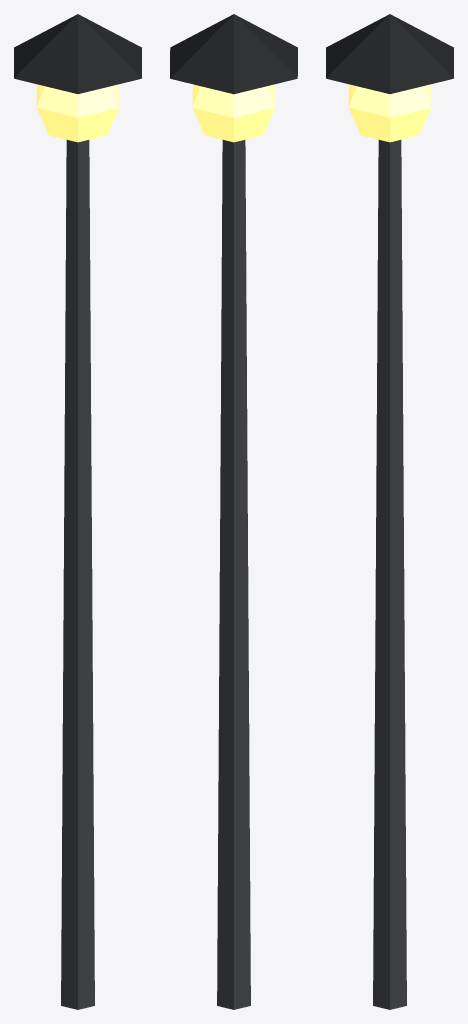
The model's file is lamp-post.glb.
3 renders of one model, left to right at view 1: azimuth 90°, elevation 25°; view 2: azimuth 150°, elevation 25°; view 3: azimuth 270°, elevation 25°, orthographic.
Parts seen in each view (by area): view 1: lamp; view 2: lamp; view 3: lamp.
Part boxes in pixels (<box>): lamp: <box>14,14,141,1009</box>; lamp: <box>170,14,297,1009</box>; lamp: <box>326,14,453,1009</box>.
Bounding box in the file's own units: 0.6797 × 5.03 × 0.5898.
